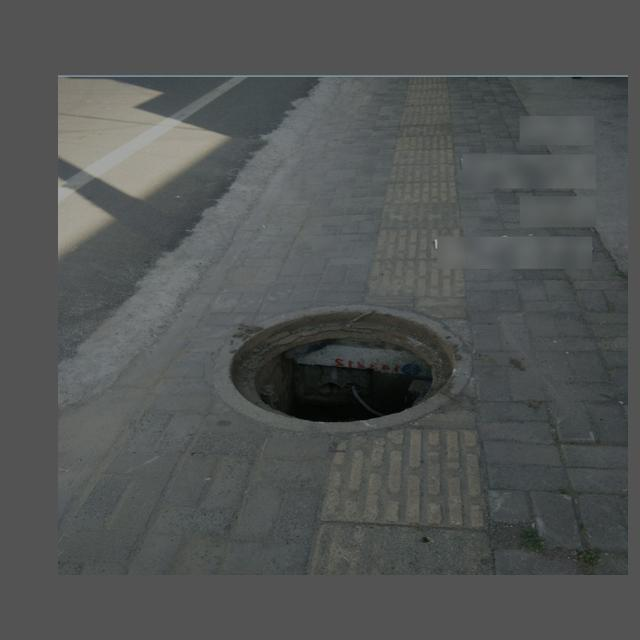lose: (212, 304, 473, 435)
